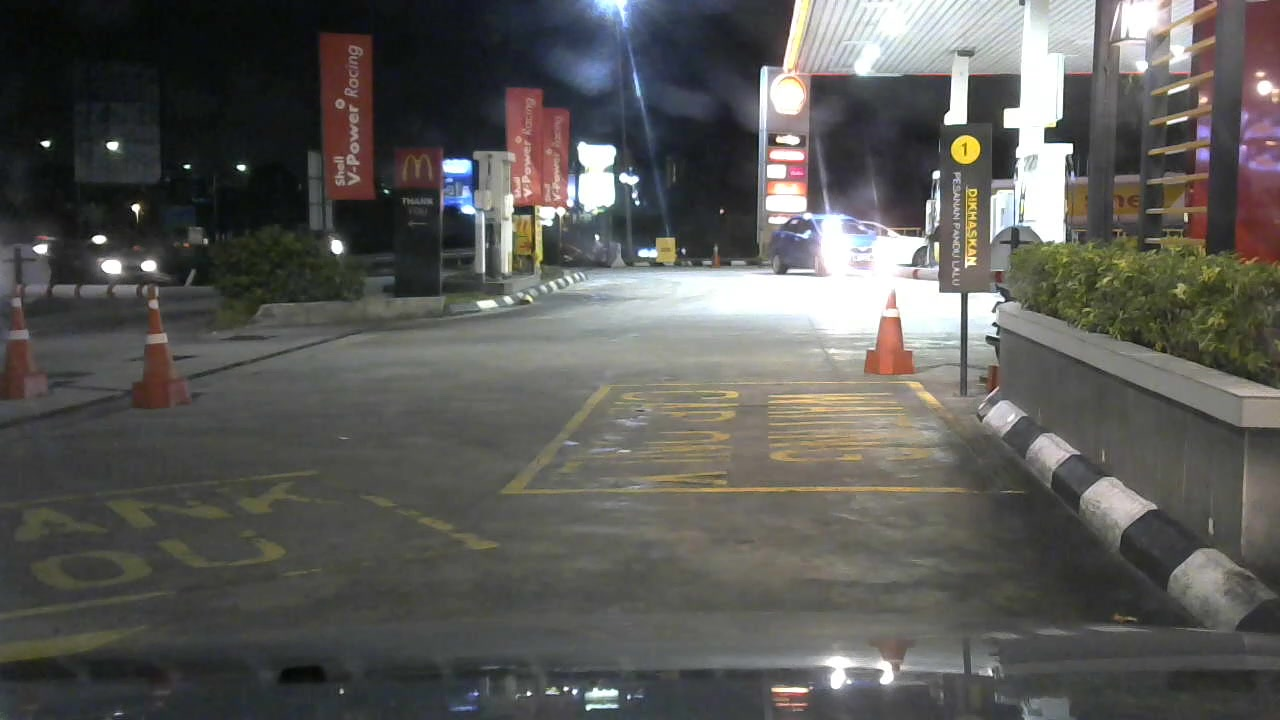Car: (762, 202, 887, 290)
